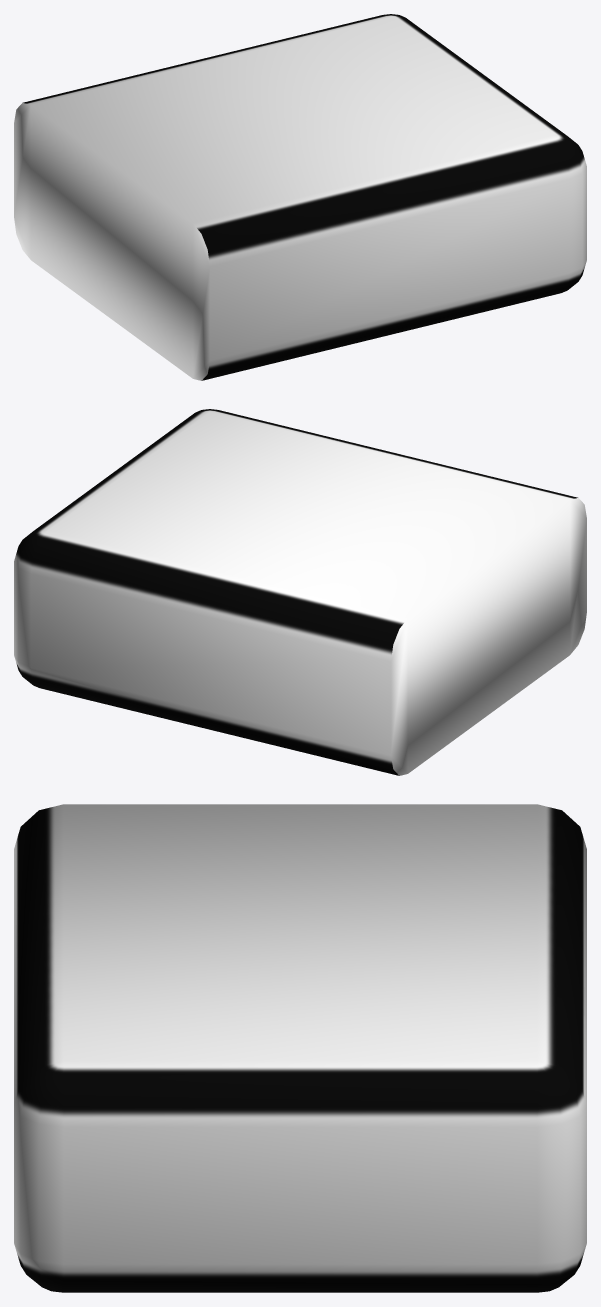
File: movementArrowBeginning.fbx
The picture shows the model from 3 angles, top to bottom: view 1: azimuth 30°, elevation 25°; view 2: azimuth 150°, elevation 25°; view 3: azimuth 270°, elevation 25°; orthographic projection. The views are drawn at different scales.
Visible parts, largest first — view 1: Cube_000; view 2: Cube_000; view 3: Cube_000.
Part boxes in pixels (x1=…): Cube_000: x1=14, y1=14, x2=586, y2=380; Cube_000: x1=14, y1=409, x2=586, y2=775; Cube_000: x1=14, y1=804, x2=586, y2=1292.
Size of the model in its own units: 0.3304 by 0.126 by 0.288.
